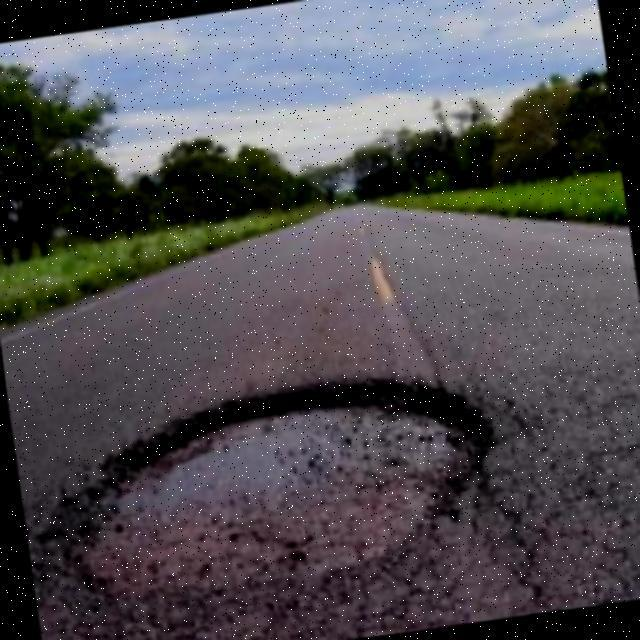Pothole: (70, 378, 484, 561)
